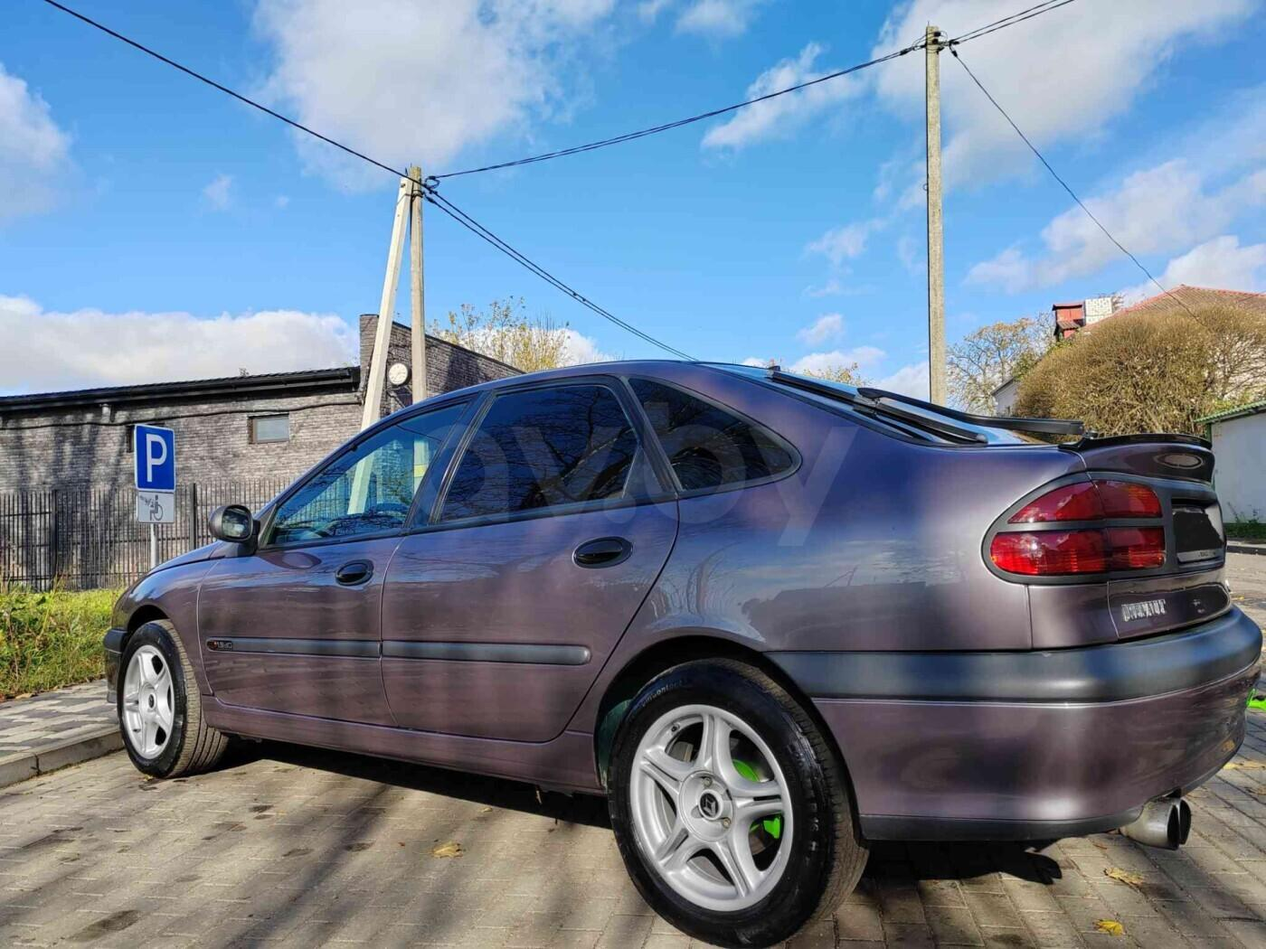Laguna_1998-2001: (101, 352, 1260, 944)
